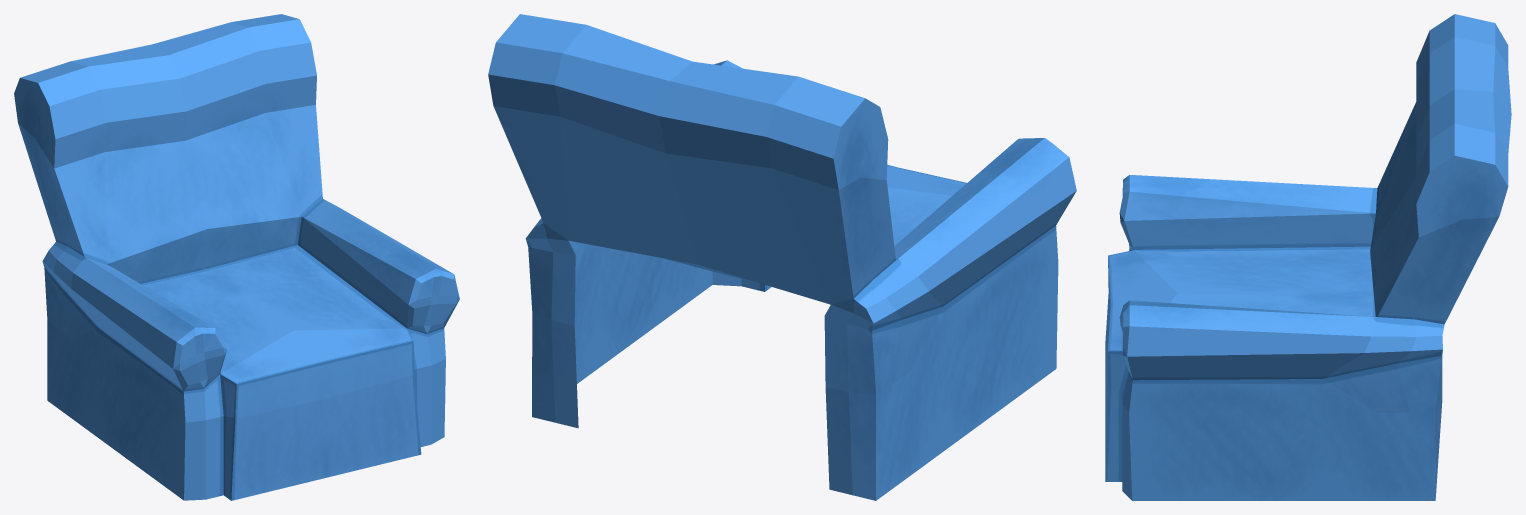
The model's file is Sofa_chair_Main.fbx.
The picture shows the model from 3 angles, left to right: view 1: azimuth 30°, elevation 25°; view 2: azimuth 150°, elevation 25°; view 3: azimuth 270°, elevation 25°; orthographic projection. The views are drawn at different scales.
Parts seen in each view (by area): view 1: Sofa_Chair_Low; view 2: Sofa_Chair_Low; view 3: Sofa_Chair_Low.
Part boxes in pixels (<box>): Sofa_Chair_Low: <box>14,14,459,500</box>; Sofa_Chair_Low: <box>488,14,1076,500</box>; Sofa_Chair_Low: <box>1105,14,1511,500</box>.
Bounding box in the file's own units: 89.46 × 94.05 × 98.89.
1 material, 1 textured.
